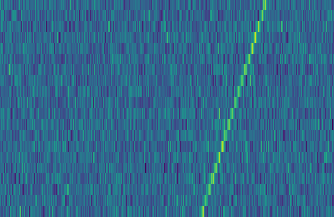signal: (198, 0, 274, 217)
